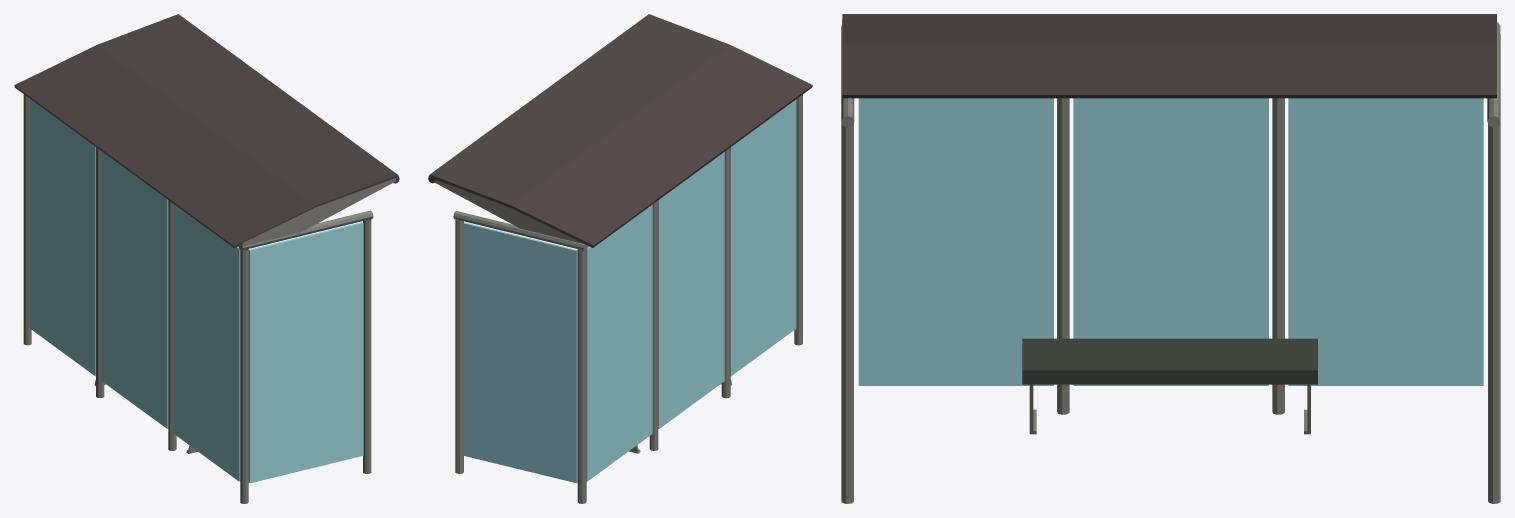
The model's file is abris bus.fbx.
3 views of the same model, side by side, from view 1: azimuth 30°, elevation 25°; view 2: azimuth 150°, elevation 25°; view 3: azimuth 270°, elevation 25° (orthographic). The views are drawn at different scales.
Parts seen in each view (by area): view 1: Cube.009; view 2: Cube.009; view 3: Cube.009.
Part boxes in pixels (left/top/right/bottom): Cube.009: left=14, top=14, right=399, bottom=503; Cube.009: left=428, top=14, right=812, bottom=503; Cube.009: left=841, top=14, right=1500, bottom=503.
Size of the model in its own units: 116 by 194 by 267.
